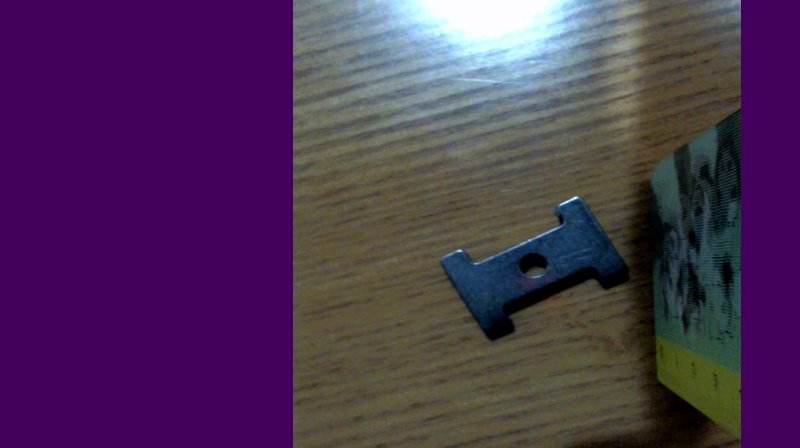O002: (437, 193, 629, 338)
